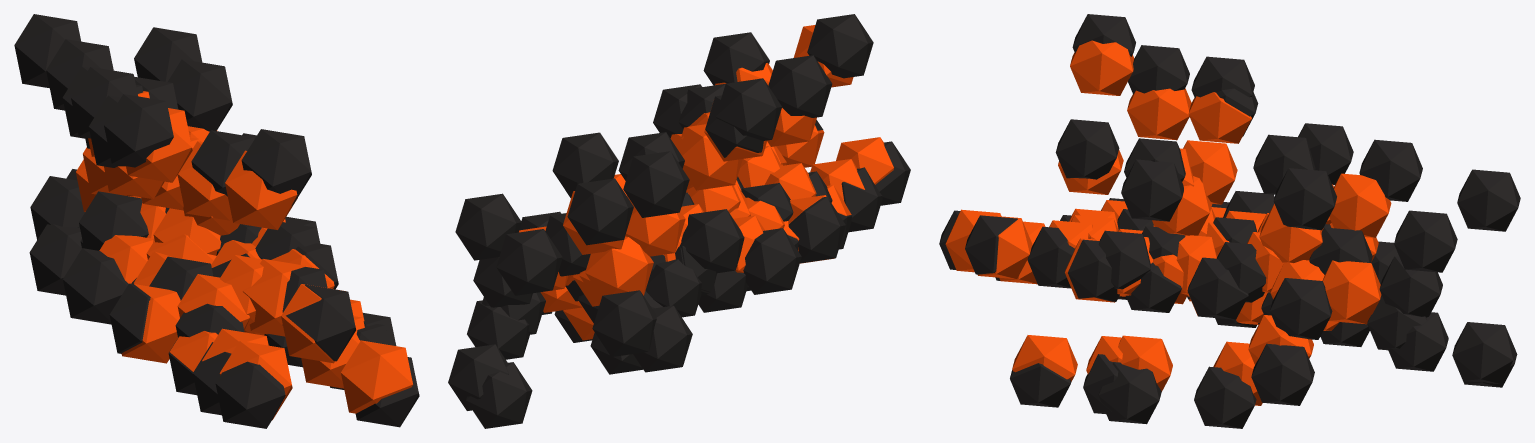
The picture shows the model from 3 angles, left to right: view 1: azimuth 30°, elevation 25°; view 2: azimuth 150°, elevation 25°; view 3: azimuth 270°, elevation 25°; orthographic projection. The views are drawn at different scales.
Visible parts, largest first — view 1: Smoke, FireTrail; view 2: Smoke, FireTrail; view 3: Smoke, FireTrail.
Boxes of the visible parts, x1,y1,x2,y2 form: Smoke: (14,14,419,428); FireTrail: (76,91,413,420); Smoke: (448,14,910,428); FireTrail: (519,25,893,340); Smoke: (939,14,1520,428); FireTrail: (945,40,1391,405).
Size of the model in its own units: 25.65 by 28.13 by 46.74.
